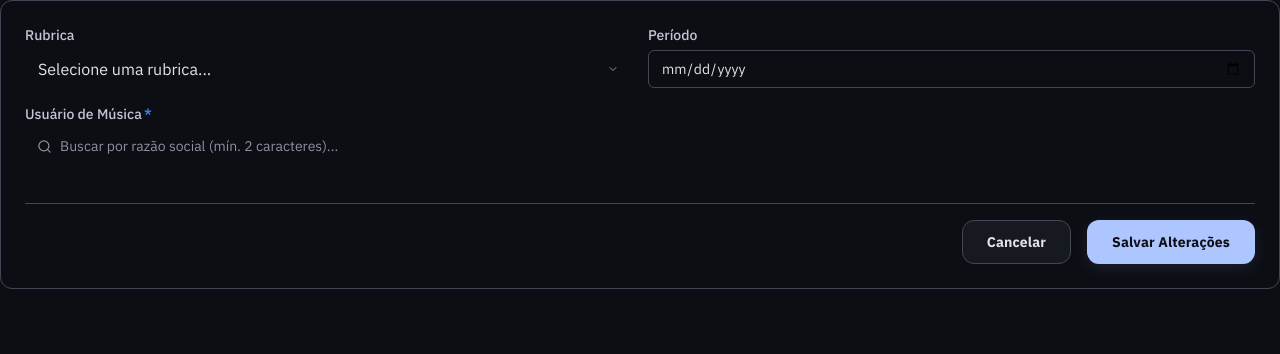
Scenario: CaptacaoForm › blocks submit when no usuario selected
This screenshot has width=1280, height=354.
Click the button "Salvar Alterações" at x=1171, y=242, box [1087,220,1255,264]
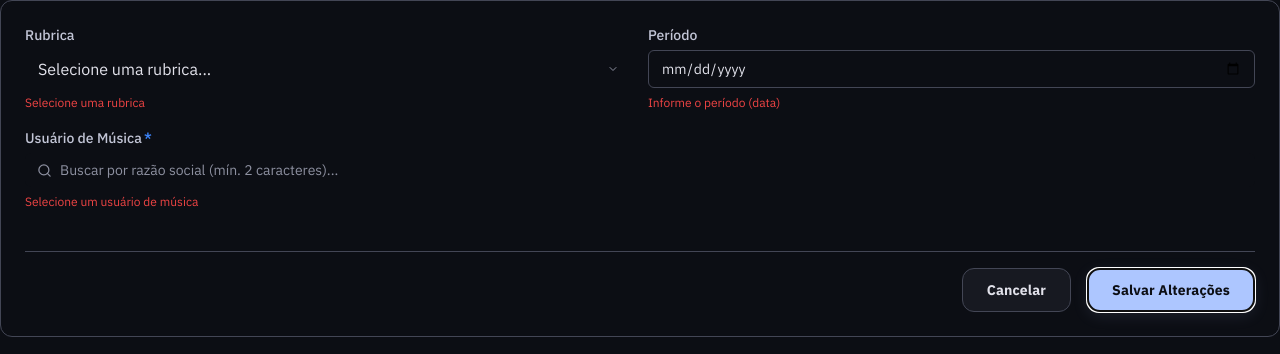
Result: the text "Selecione um usuário de música" is shown at [25,194,198,209]
